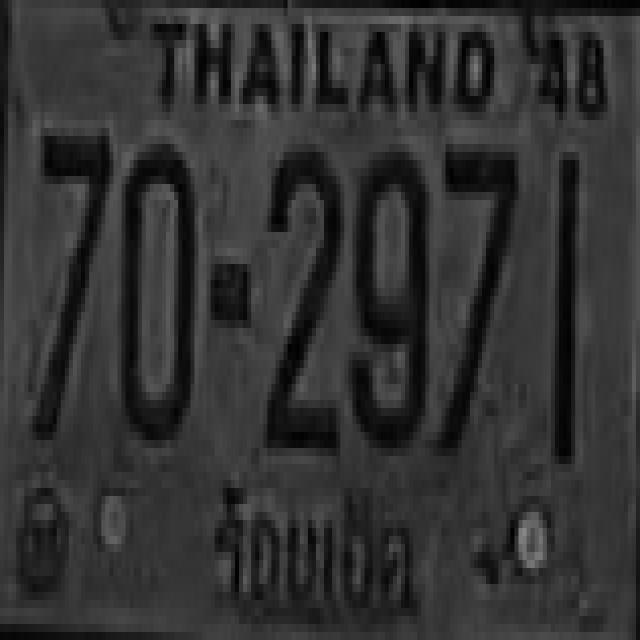0: (118, 136, 190, 432)
1: (551, 148, 575, 460)
2: (264, 140, 340, 444)
7: (32, 128, 110, 432), (438, 144, 514, 448)
9: (348, 144, 426, 440)
RoiEt: (194, 456, 433, 640)
